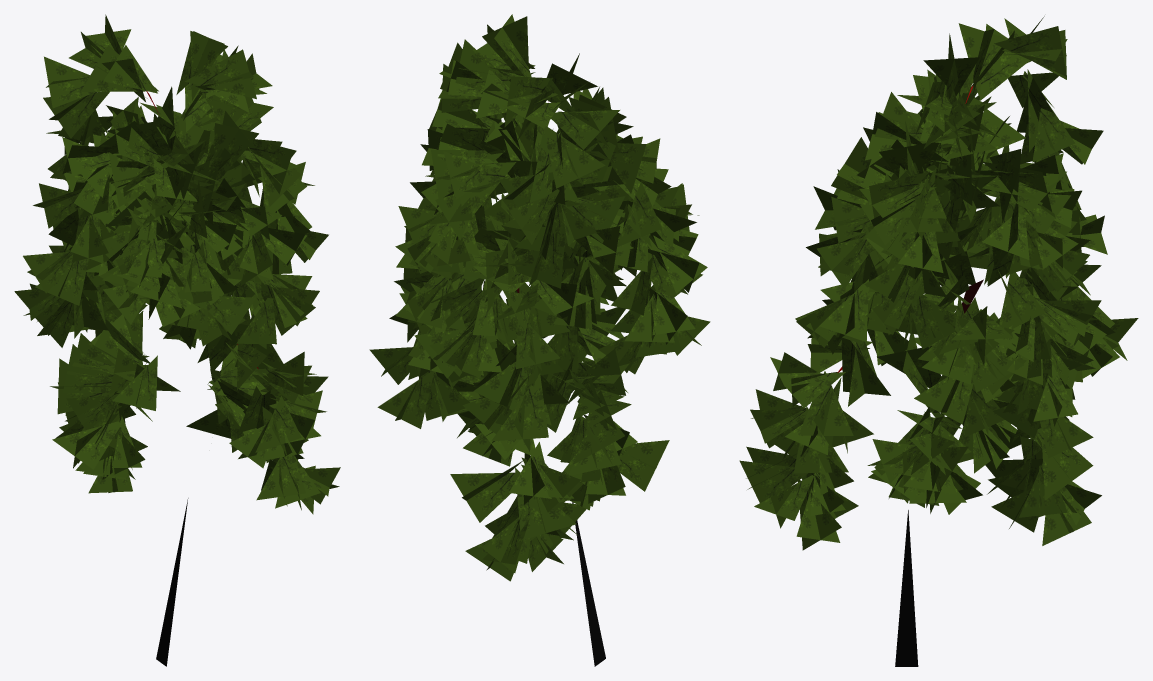
The model's file is birch 2 lod3.FBX.
3 views of the same model, side by side, from view 1: azimuth 30°, elevation 25°; view 2: azimuth 150°, elevation 25°; view 3: azimuth 270°, elevation 25° (orthographic). The views are drawn at different scales.
Parts seen in each view (by area): view 1: birch2_LOD3; view 2: birch2_LOD3; view 3: birch2_LOD3.
Boxes of the visible parts, <box> form: birch2_LOD3: <box>14,14,340,666</box>; birch2_LOD3: <box>369,14,710,666</box>; birch2_LOD3: <box>739,16,1138,666</box>.
Bounding box in the file's own units: 52464 × 111652 × 61177.
